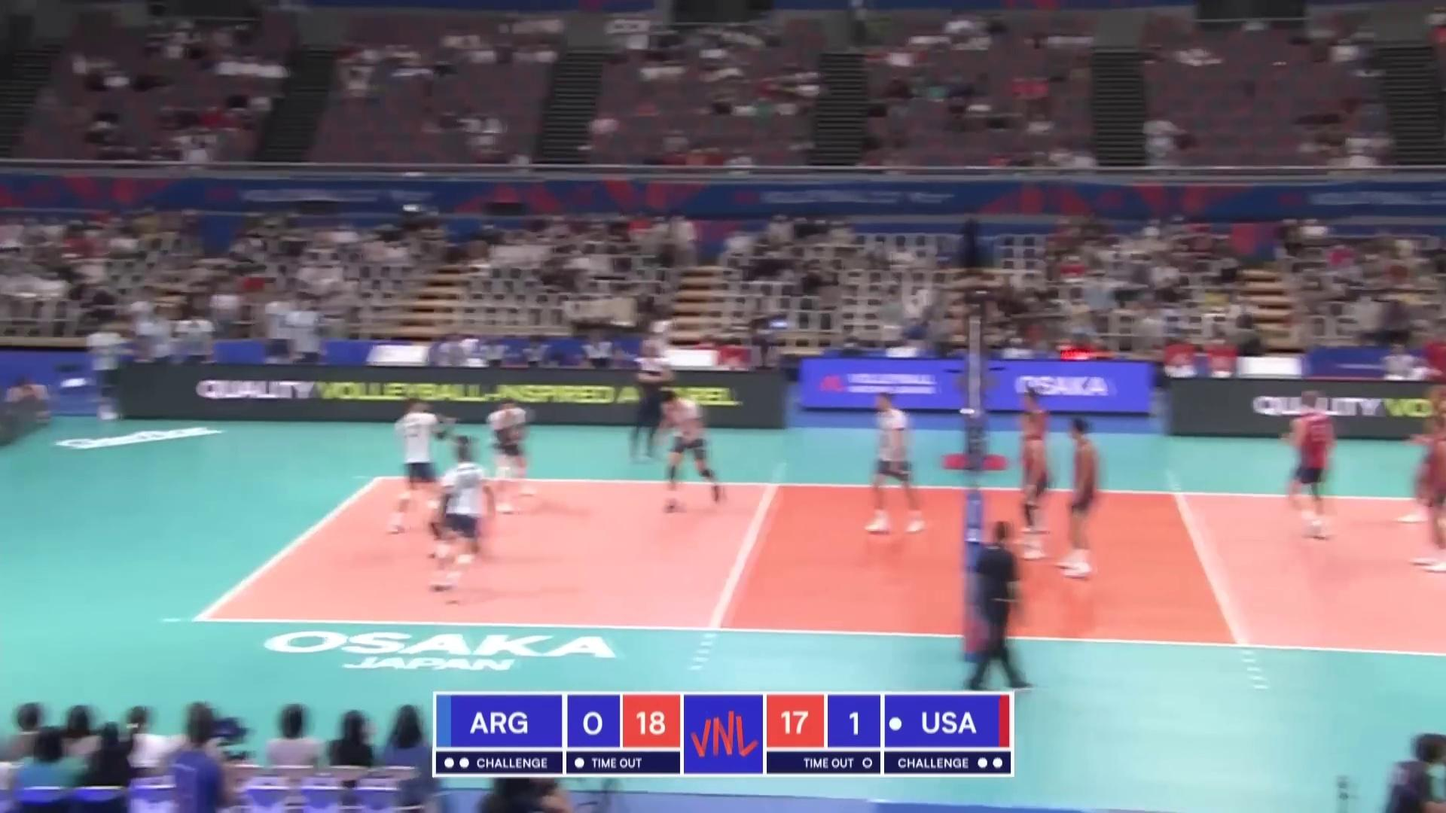player: (434, 450, 496, 602), (655, 390, 726, 513), (865, 393, 925, 537), (1278, 391, 1332, 542), (389, 392, 447, 531), (424, 434, 484, 560), (1061, 418, 1102, 581), (1011, 413, 1051, 562), (1411, 415, 1446, 576), (488, 397, 535, 513), (1406, 387, 1446, 523), (1017, 390, 1049, 532)
